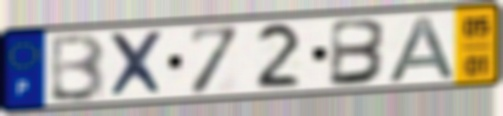2: (254, 20, 306, 92)
7: (188, 23, 241, 97)
A: (384, 14, 460, 85)
B: (326, 17, 391, 90), (46, 31, 109, 104)
X: (105, 29, 169, 101)
